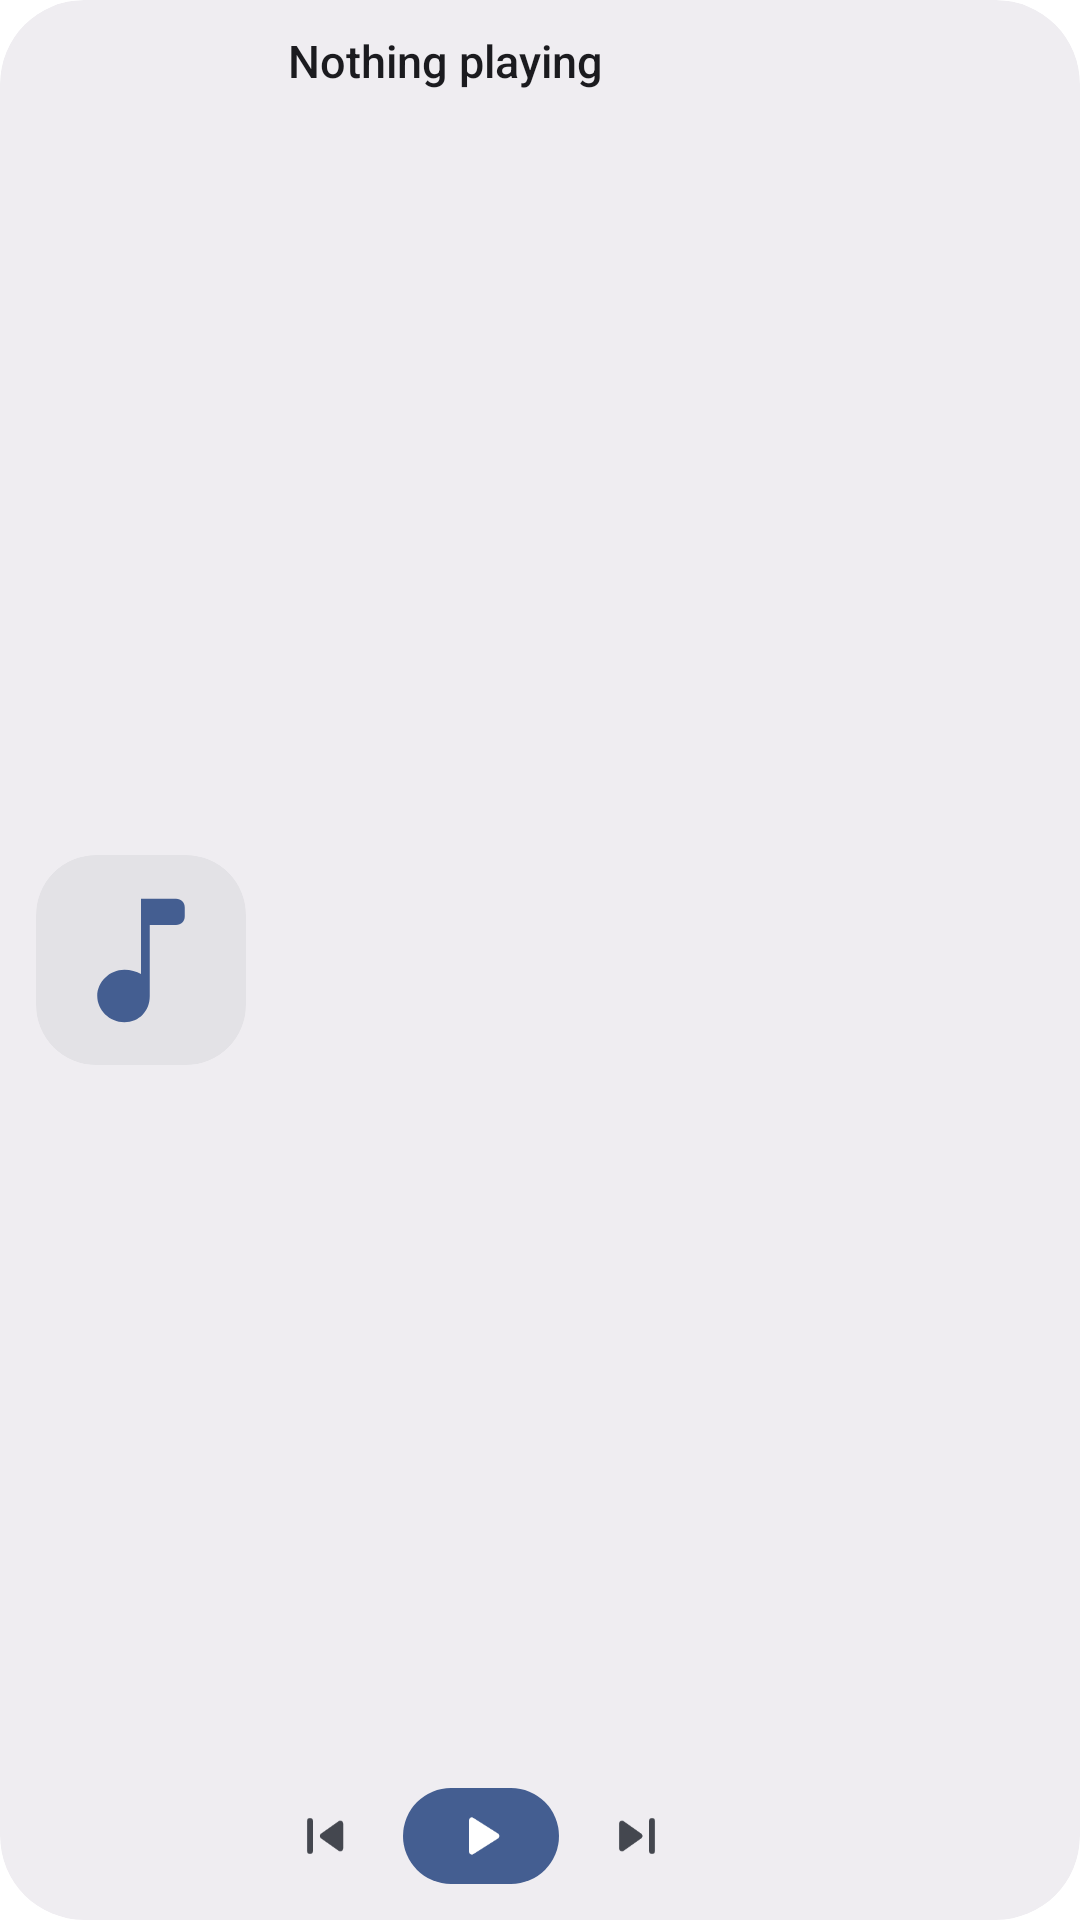

Where icons sit on this 1080×1920 app screen, as bbox=[x1, y1, x2, y2]:
Next: bbox=[619, 1818, 655, 1854]
Play: bbox=[403, 1788, 559, 1884]
Previous: bbox=[307, 1818, 344, 1854]
